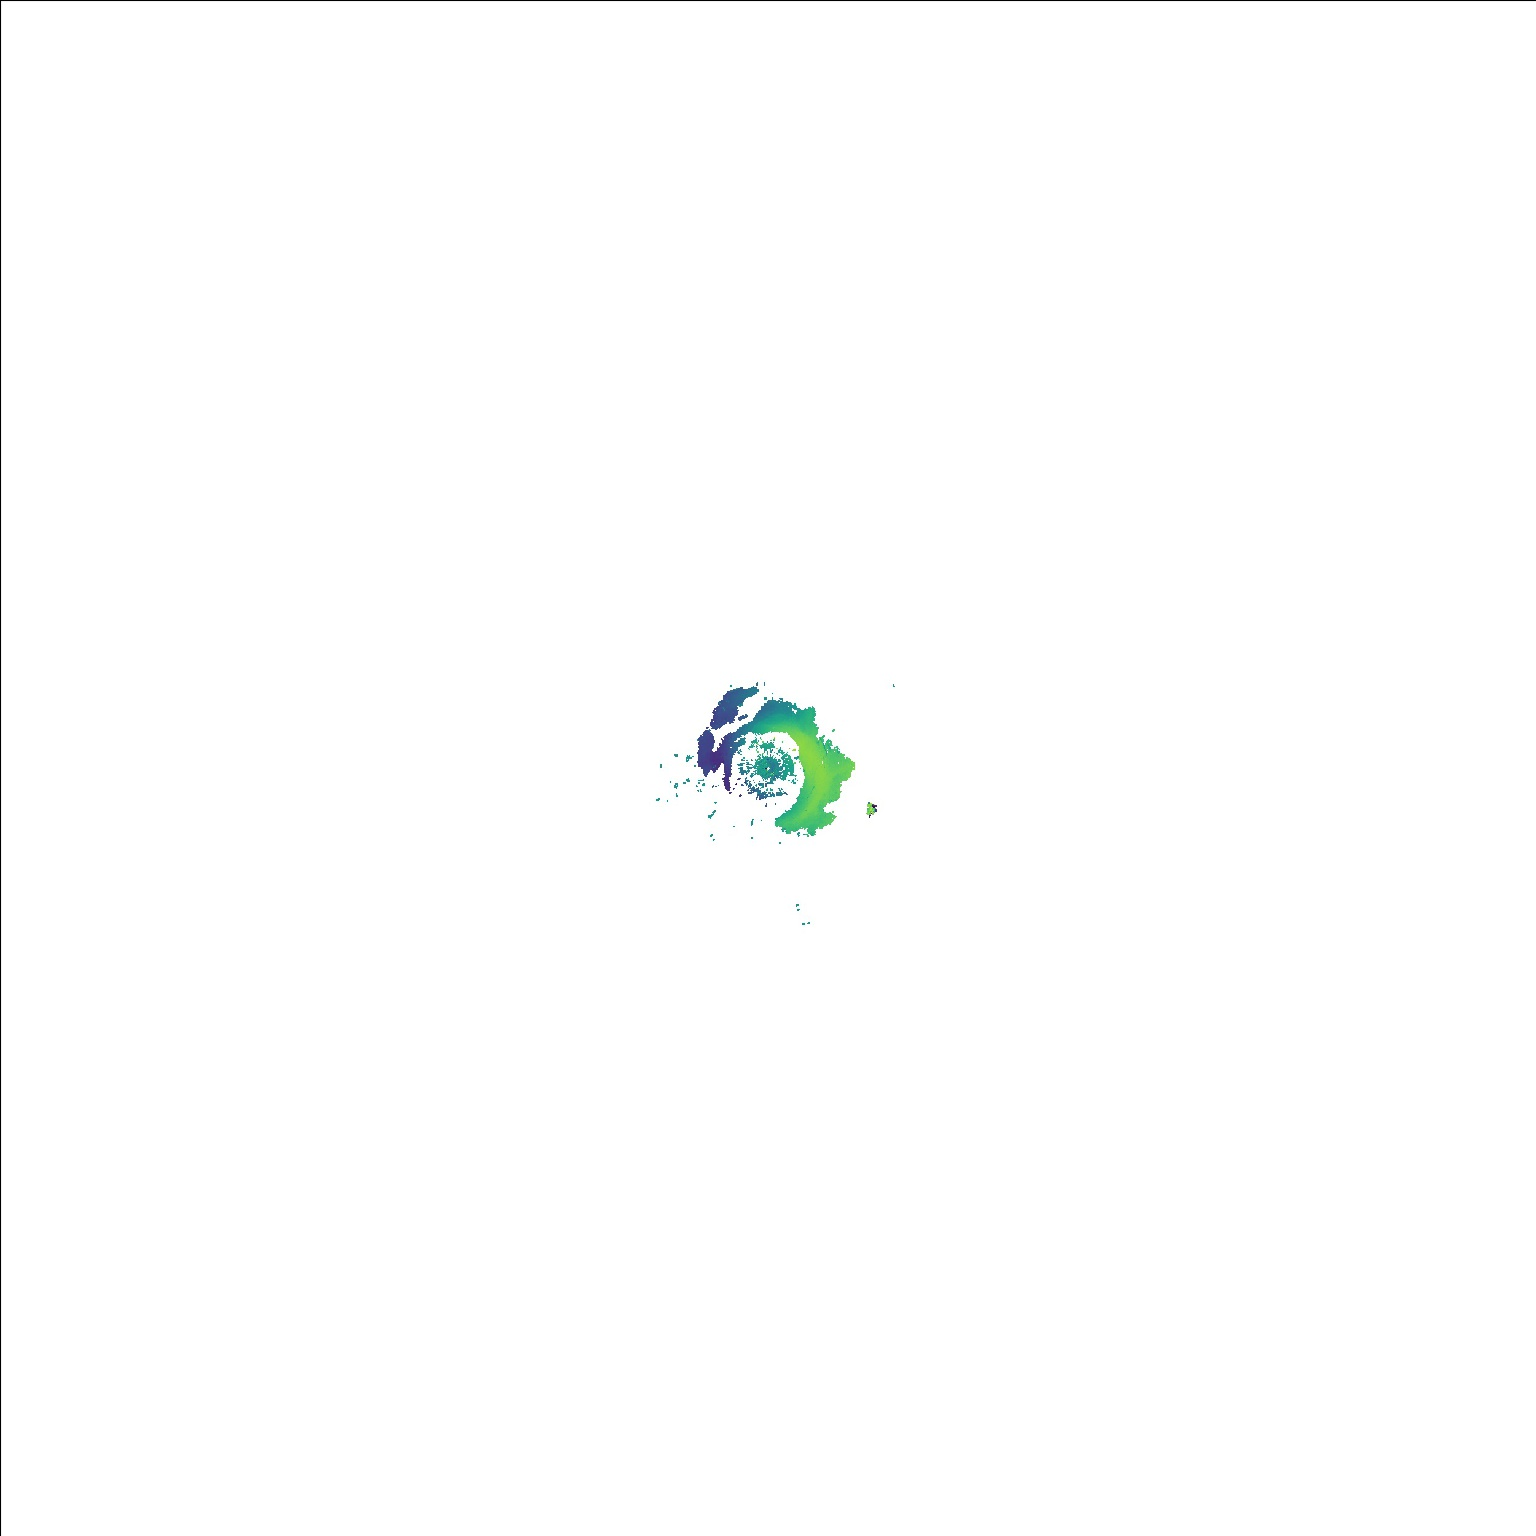fall: (864, 798, 881, 820)
